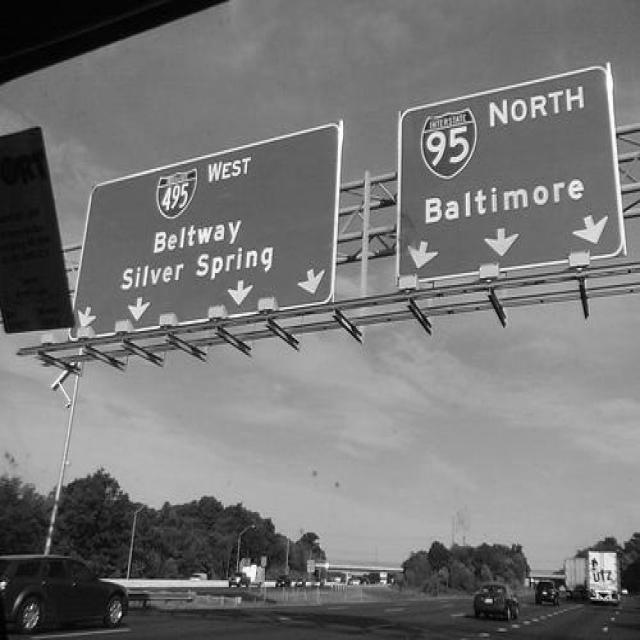vehicle: (0, 556, 128, 635), (586, 550, 622, 606), (474, 584, 520, 621), (566, 558, 588, 600), (537, 582, 560, 605), (228, 573, 253, 589), (275, 575, 291, 589), (312, 577, 324, 589), (191, 574, 209, 581), (296, 579, 306, 587), (621, 589, 629, 596), (291, 580, 295, 586)
